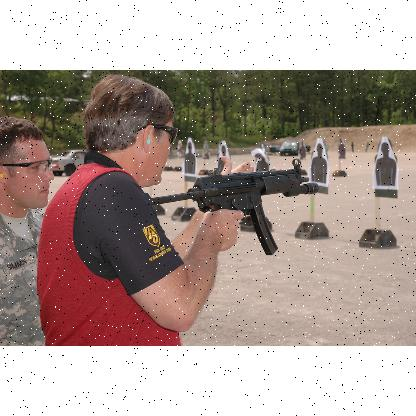gun: (152, 158, 318, 254)
